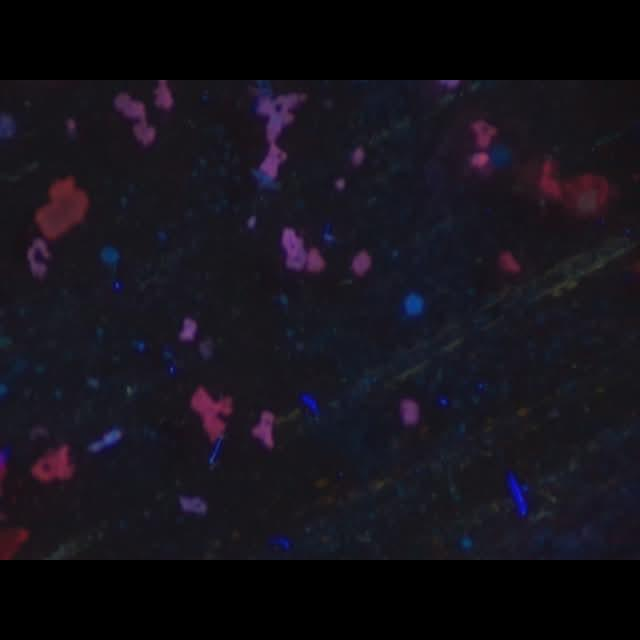Fragment: (280, 227, 328, 275)
